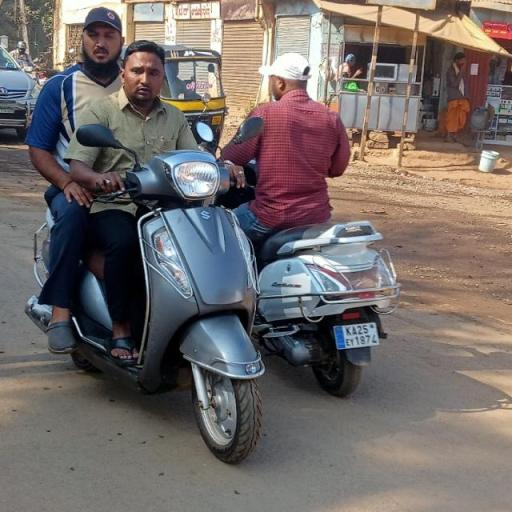bike: (214, 50, 408, 401)
numberplate: (330, 317, 385, 351)
withouthelmet: (266, 54, 314, 96)
